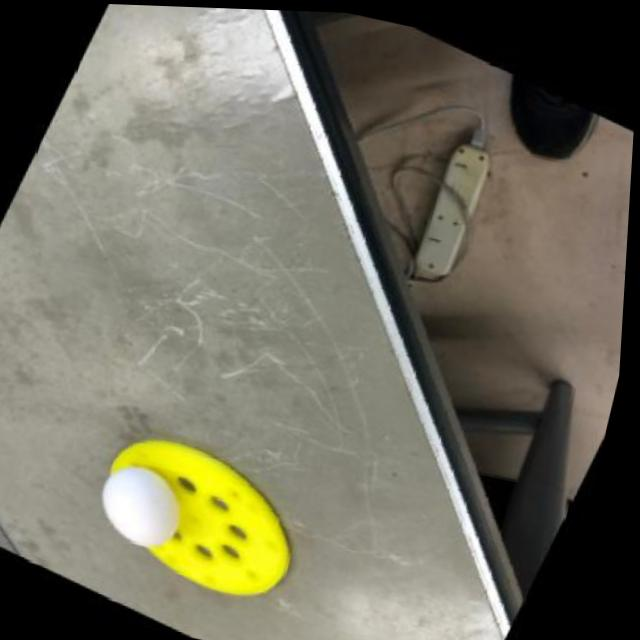egg: (92, 454, 200, 556)
